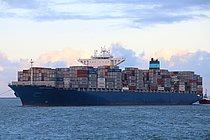Ship: (9, 39, 205, 107)
